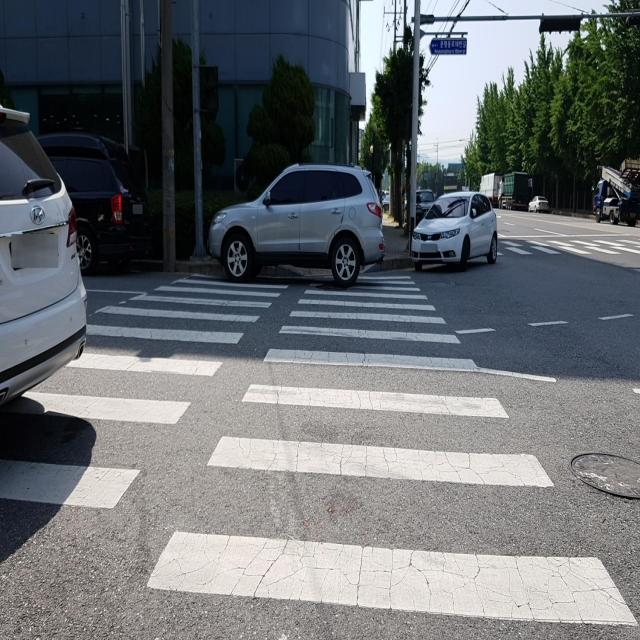횡단보도: (0, 266, 640, 631), (495, 235, 640, 262)
